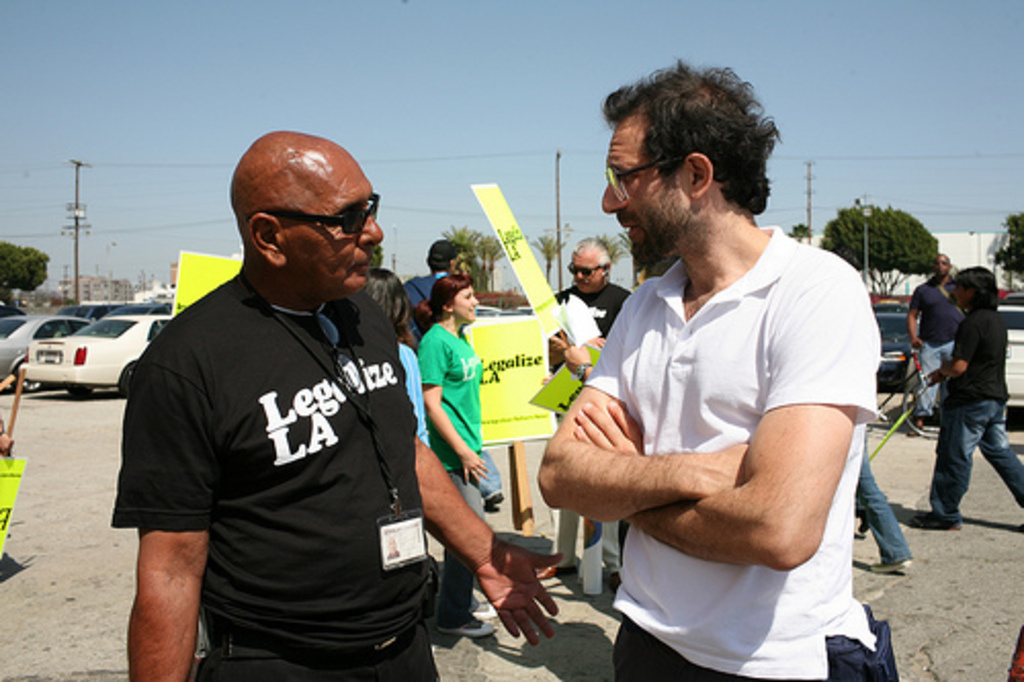Person: (911, 264, 1024, 530), (417, 278, 498, 641), (567, 237, 635, 591), (360, 269, 433, 447), (400, 238, 470, 333)
